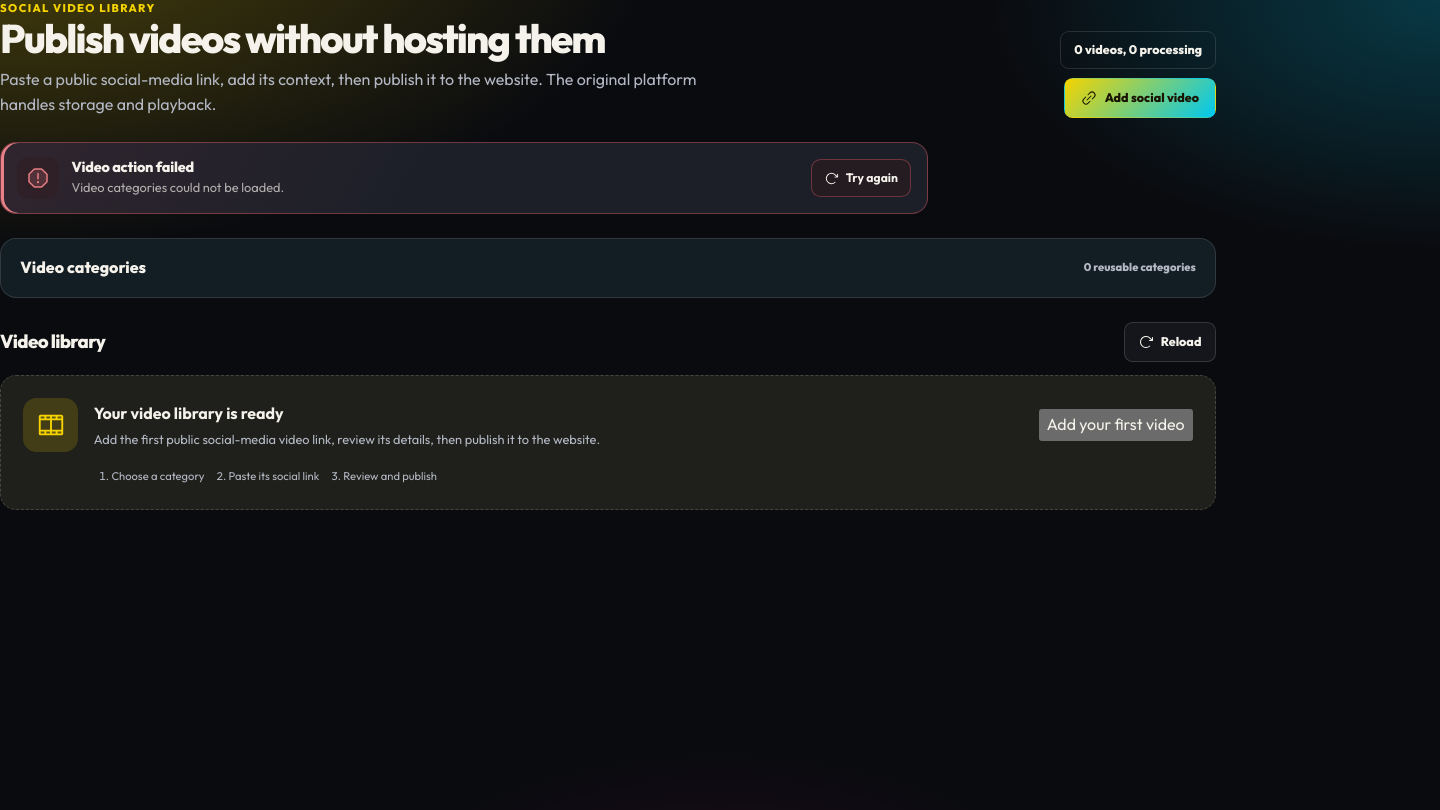
it: handles an empty response and reports a failed manual reload
Expected: the heading "Your video library is ready" is shown, [94, 403, 284, 423]
Click the button "Add your first video": (1116, 425) [1039, 409, 1193, 441]
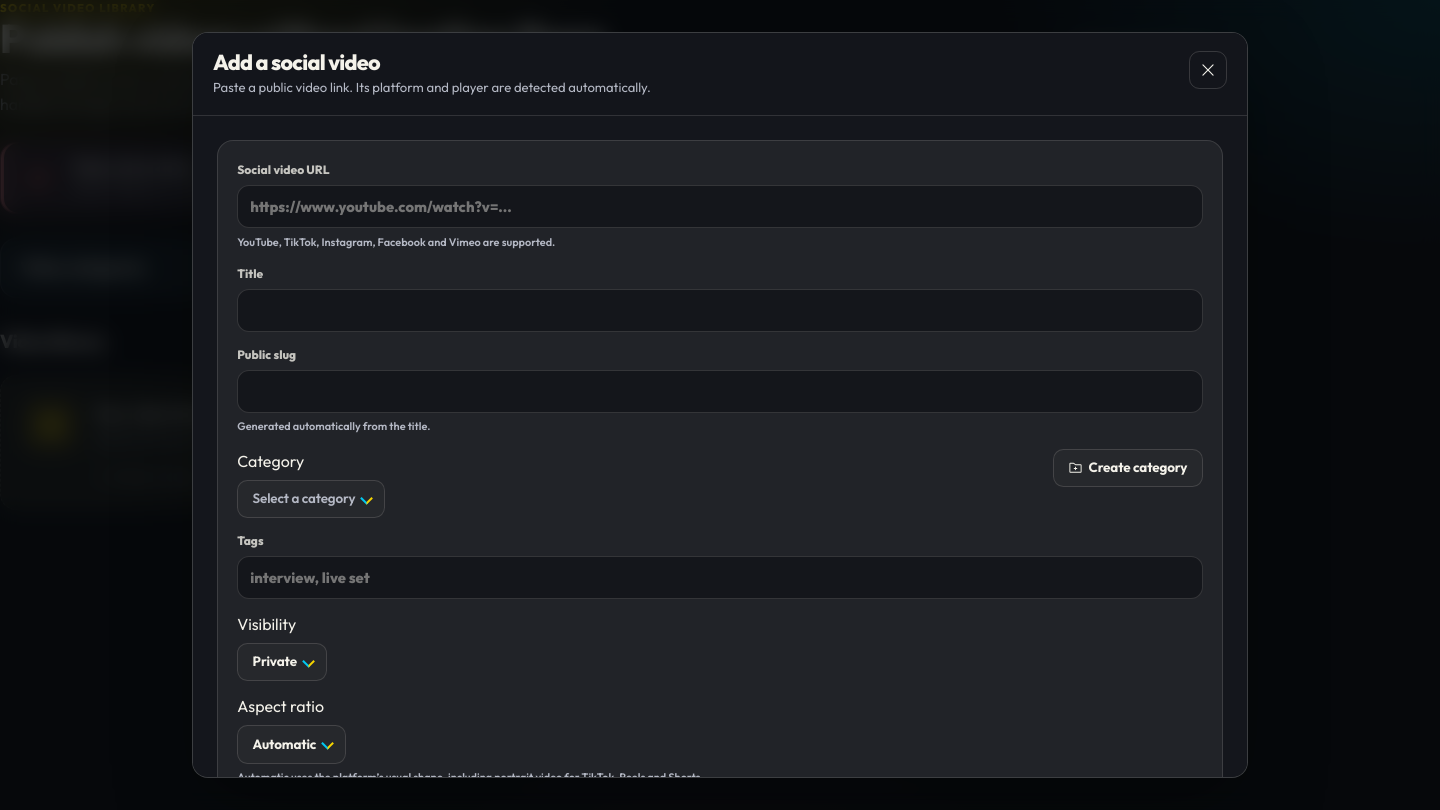
Result: the dialog "Add a social video" is shown
Click the button named "Close dialog": (1208, 70) [1189, 51, 1227, 89]
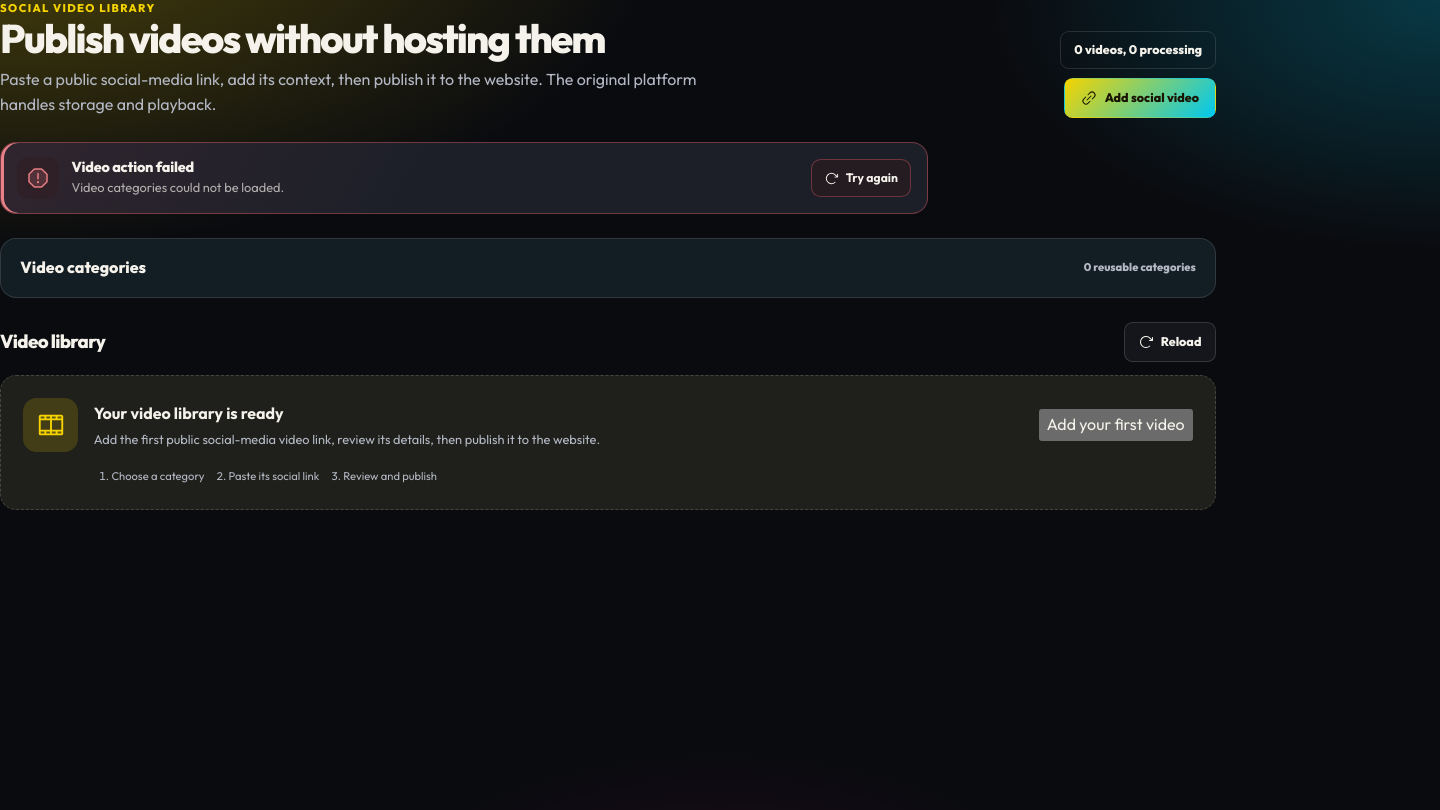
Click the button "Reload": (1170, 342) [1124, 322, 1216, 362]
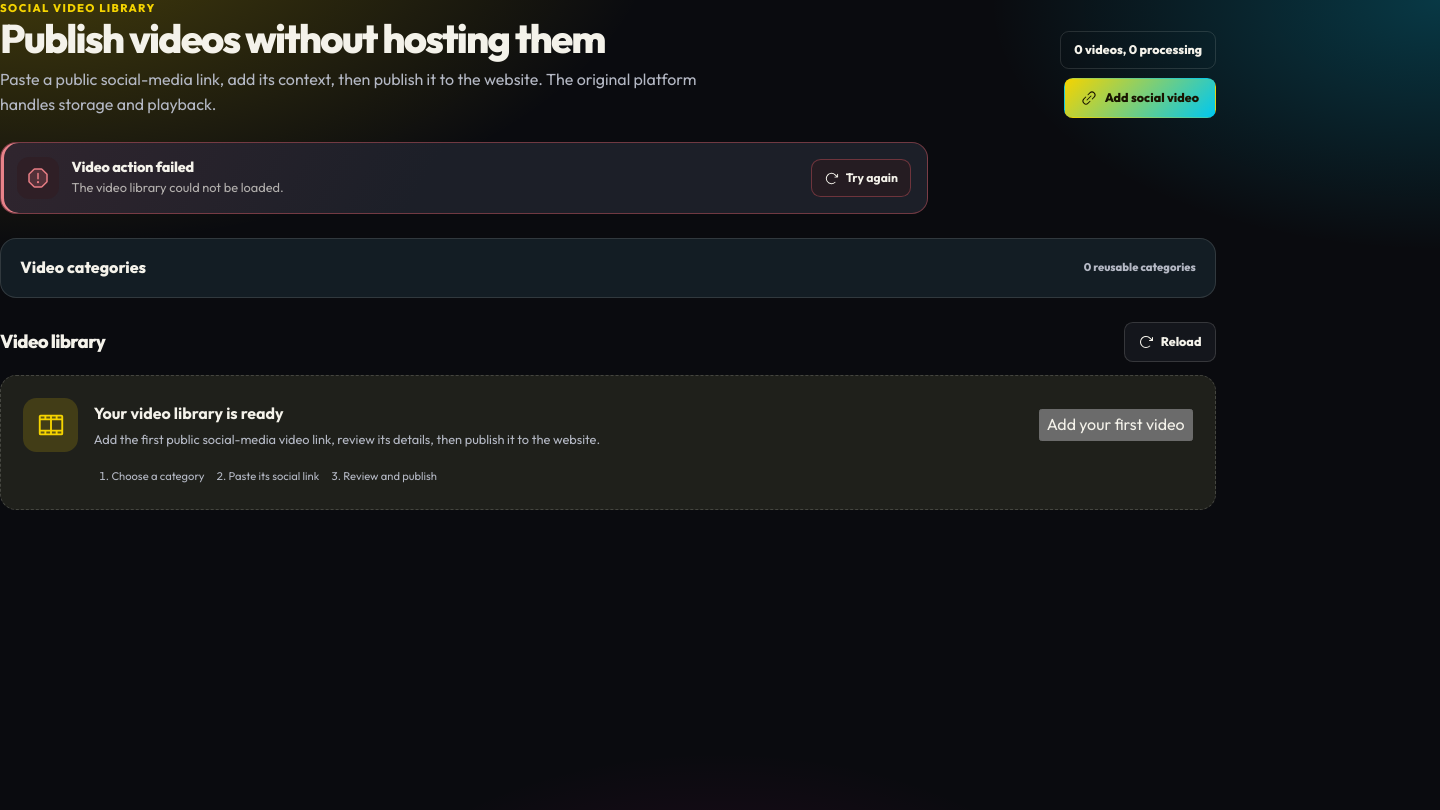
Result: the message shows "video library could not be loaded" at [71, 179, 284, 195]
